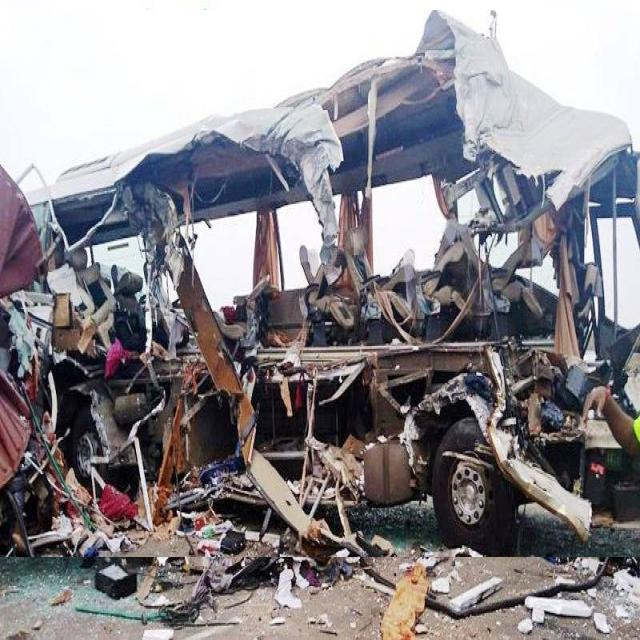accident: (0, 11, 640, 557)
